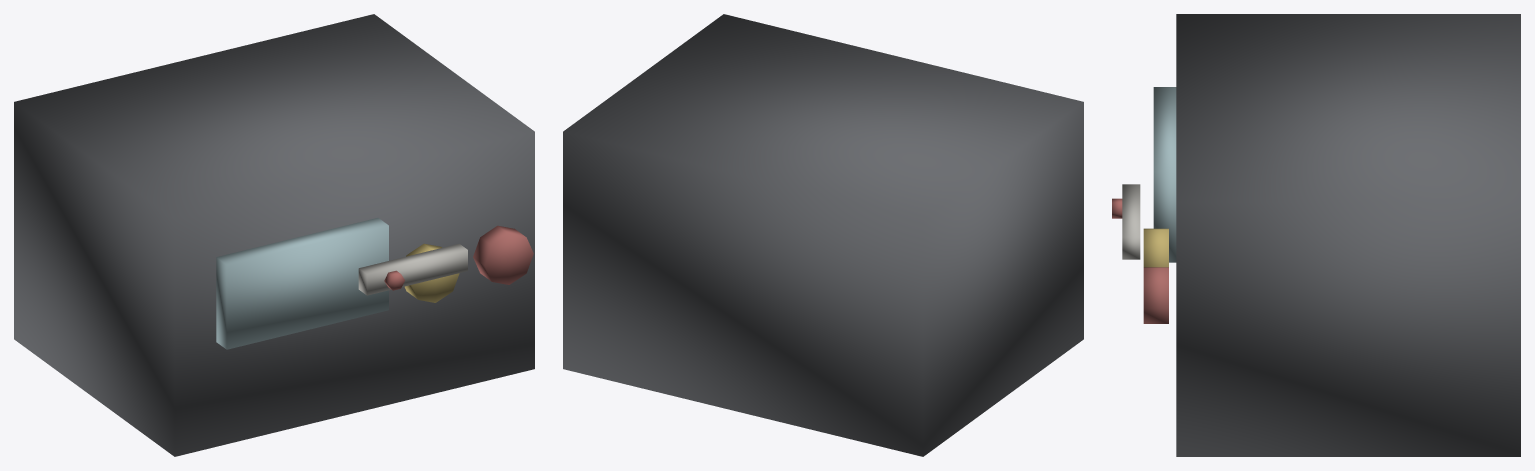
The model's file is bench_power_supply__reinforced.glb.
3 views of the same model, side by side, from view 1: azimuth 30°, elevation 25°; view 2: azimuth 150°, elevation 25°; view 3: azimuth 270°, elevation 25° (orthographic). The views are drawn at different scales.
Visible parts, largest first — view 1: world; view 2: world; view 3: world.
Boxes of the visible parts, x1=… form: world: x1=14, y1=14, x2=534, y2=456; world: x1=563, y1=14, x2=1083, y2=456; world: x1=1112, y1=14, x2=1520, y2=456.
Size of the model in its own units: 0.4532 by 0.2856 by 0.4156.
